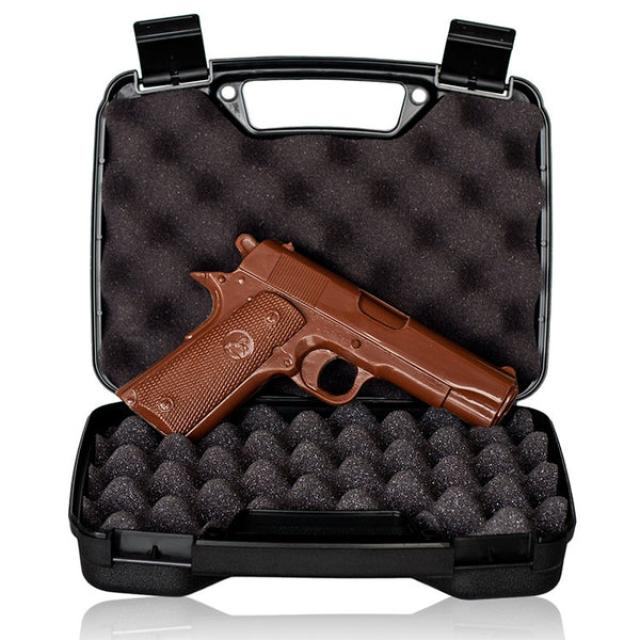HandGun: (106, 230, 524, 442)
